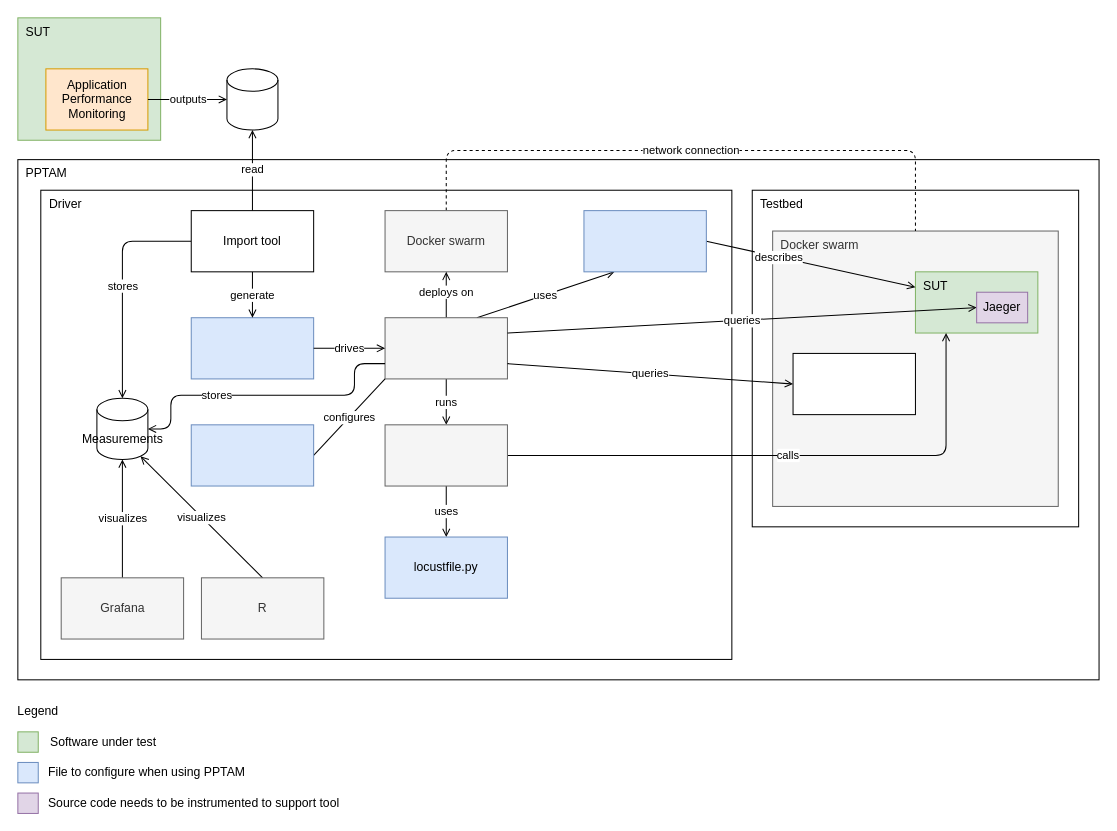
Image size: 1117x831. Some labels were removed from this diagram. The centre of each missing label's shape, as x and y in pixels:
APM data: (x=252, y=99)
configuration.ini: (x=252, y=455)
Docker stats: (x=853, y=383)
docker-compose.yml: (x=644, y=241)
execute_test.py: (x=445, y=348)
locust.io: (x=445, y=455)
testplan.ini: (x=252, y=348)
